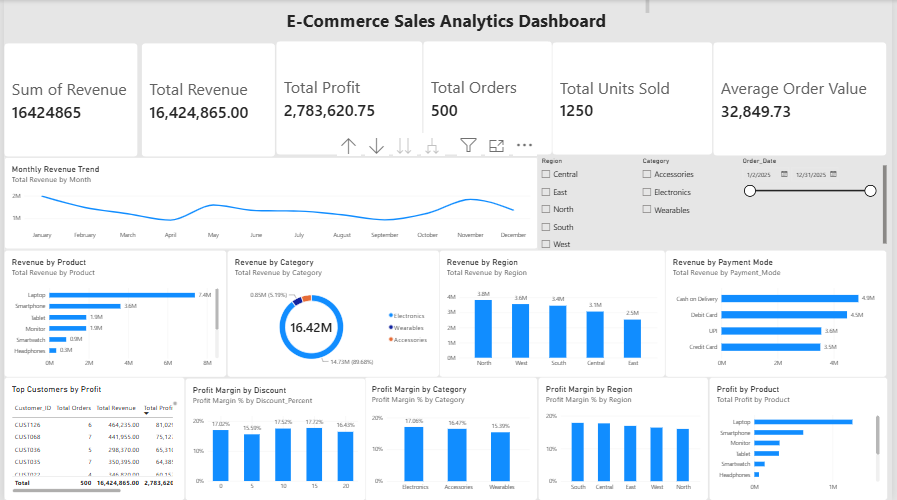

The page's visual inventory and layout, read from the dashboard file:
{"tool":"powerbi","page":{"name":"Page 1","canvas":[1920,1080],"ordinal":0},"visuals":[{"type":"cardVisual","fields":{"Data":["Sum(ecommerce_sales.Revenue)","ecommerce_sales.Total Revenue"]},"box":[0,92.9,587.1,246.9],"z":0},{"type":"cardVisual","fields":{"Data":["ecommerce_sales.Total Profit"]},"box":[587.1,88.2,317.5,246.9],"z":1000},{"type":"cardVisual","fields":{"Data":["ecommerce_sales.Total Orders"]},"box":[904.6,88.2,279.7,246.9],"z":2000},{"type":"cardVisual","fields":{"Data":["ecommerce_sales.Total Units Sold"]},"box":[1184.3,90.7,347.7,244.4],"z":3000},{"type":"cardVisual","fields":{"Data":["ecommerce_sales.Average Order Value"]},"box":[1532,90.7,375.4,246.9],"z":4000},{"type":"lineChart","title":"Monthly Revenue Trend","fields":{"Category":["ecommerce_sales.Order_Date.Variation.Date Hierarchy.Year","ecommerce_sales.Order_Date.Variation.Date Hierarchy.Month"],"Y":["ecommerce_sales.Total Revenue"]},"box":[0,340.2,1154,199.1],"z":5000},{"type":"clusteredBarChart","title":"Revenue by Product","fields":{"Category":["ecommerce_sales.Product"],"Y":["ecommerce_sales.Total Revenue"]},"box":[0,539.2,481.3,274.6],"z":6000},{"type":"donutChart","title":"Revenue by Category","fields":{"Category":["ecommerce_sales.Category"],"Y":["ecommerce_sales.Total Revenue"]},"box":[481.3,539.2,458.6,274.6],"z":7000},{"type":"clusteredColumnChart","title":"Revenue by Region","fields":{"Category":["ecommerce_sales.Region"],"Y":["ecommerce_sales.Total Revenue"]},"box":[939.8,539.2,488.8,274.6],"z":8000},{"type":"clusteredBarChart","title":"Profit by Product","fields":{"Category":["ecommerce_sales.Product"],"Y":["ecommerce_sales.Total Profit"]},"box":[1521.9,813.9,385.5,267.1],"z":9000},{"type":"clusteredColumnChart","title":"Profit Margin by Category","fields":{"Category":["ecommerce_sales.Category"],"Y":["ecommerce_sales.Profit Margin %"]},"box":[778.6,813.9,375.4,267.1],"z":10000},{"type":"clusteredColumnChart","title":"Profit Margin by Region","fields":{"Category":["ecommerce_sales.Region"],"Y":["ecommerce_sales.Profit Margin %"]},"box":[1154,813.9,367.9,267.1],"z":11000},{"type":"clusteredBarChart","title":"Revenue by Payment Mode","fields":{"Category":["ecommerce_sales.Payment_Mode"],"Y":["ecommerce_sales.Total Revenue"]},"box":[1428.7,539.2,478.7,274.6],"z":12000},{"type":"tableEx","title":"Top Customers by Profit","fields":{"Values":["ecommerce_sales.Customer_ID","ecommerce_sales.Total Orders","ecommerce_sales.Total Revenue","ecommerce_sales.Total Profit","ecommerce_sales.Average Order Value"]},"box":[0,813.9,390.6,267.1],"z":13000},{"type":"clusteredColumnChart","title":"Profit Margin by Discount","fields":{"Category":["ecommerce_sales.Discount_Percent"],"Y":["ecommerce_sales.Profit Margin %"]},"box":[390.6,816.4,390.6,264.6],"z":14000},{"type":"textbox","box":[525,0,869.3,90.7],"z":15000},{"type":"slicer","fields":{"Values":["ecommerce_sales.Region"]},"box":[1154,340.2,753.4,199.1],"z":15001},{"type":"slicer","fields":{"Values":["ecommerce_sales.Category"]},"box":[1370.7,340.2,299.8,204.1],"z":15002},{"type":"slicer","fields":{"Values":["ecommerce_sales.Order_Date"]},"box":[1587.4,340.2,299.8,199.1],"z":15003}]}

Visuals, with their boxes in screenshot pixels (x1, y1, x2, y2), scaled from the page's 1920x1080 canvas onto the 897x500 screenshot:
cardVisual - Sum(ecommerce_sales.Revenue) x ecommerce_sales.Total Revenue: [0,43,274,157]
cardVisual - ecommerce_sales.Total Profit: [274,41,423,155]
cardVisual - ecommerce_sales.Total Orders: [423,41,553,155]
cardVisual - ecommerce_sales.Total Units Sold: [553,42,716,155]
cardVisual - ecommerce_sales.Average Order Value: [716,42,891,156]
"Monthly Revenue Trend" lineChart: [0,158,539,250]
"Revenue by Product" clusteredBarChart: [0,250,225,377]
"Revenue by Category" donutChart: [225,250,439,377]
"Revenue by Region" clusteredColumnChart: [439,250,667,377]
"Profit by Product" clusteredBarChart: [711,377,891,499]
"Profit Margin by Category" clusteredColumnChart: [364,377,539,499]
"Profit Margin by Region" clusteredColumnChart: [539,377,711,499]
"Revenue by Payment Mode" clusteredBarChart: [667,250,891,377]
"Top Customers by Profit" tableEx: [0,377,182,499]
"Profit Margin by Discount" clusteredColumnChart: [182,378,365,499]
textbox: [245,0,651,42]
slicer - ecommerce_sales.Region: [539,158,891,250]
slicer - ecommerce_sales.Category: [640,158,780,252]
slicer - ecommerce_sales.Order_Date: [742,158,882,250]
